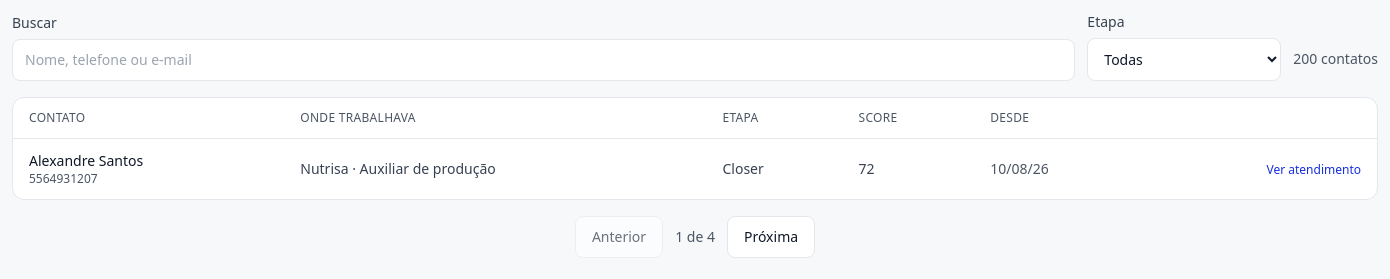
lista de contatos › buscar volta para a primeira página
Expected: the text "1 de 4" is shown, [675, 227, 715, 247]
Click the button "Próxima": [771, 237] box [727, 216, 815, 258]
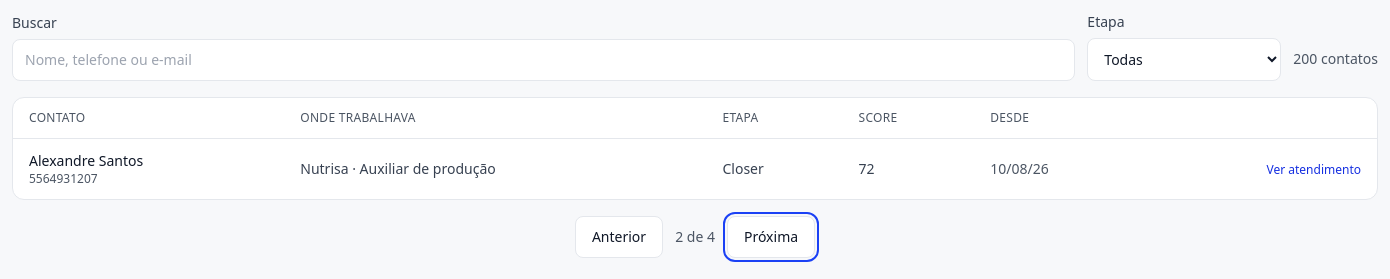
Now the text "2 de 4" is shown, box [675, 227, 715, 247]
In the field labelled "Buscar": [544, 60] box [12, 39, 1075, 81], type "alex"
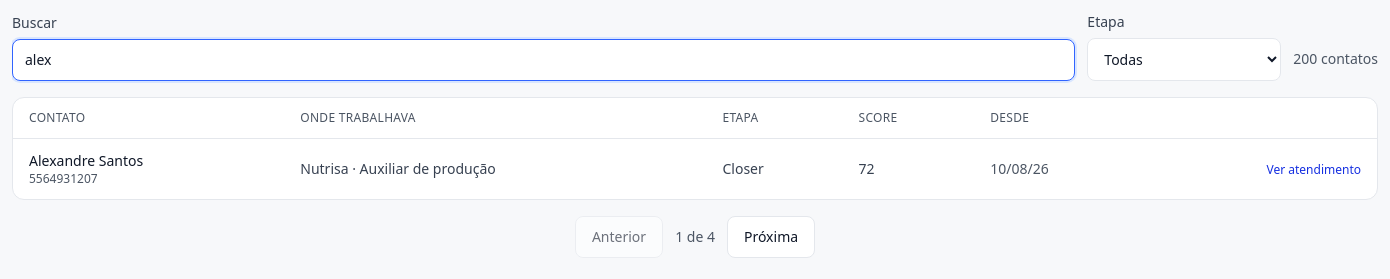
Now the text "1 de 4" is shown, box [675, 227, 715, 247]
